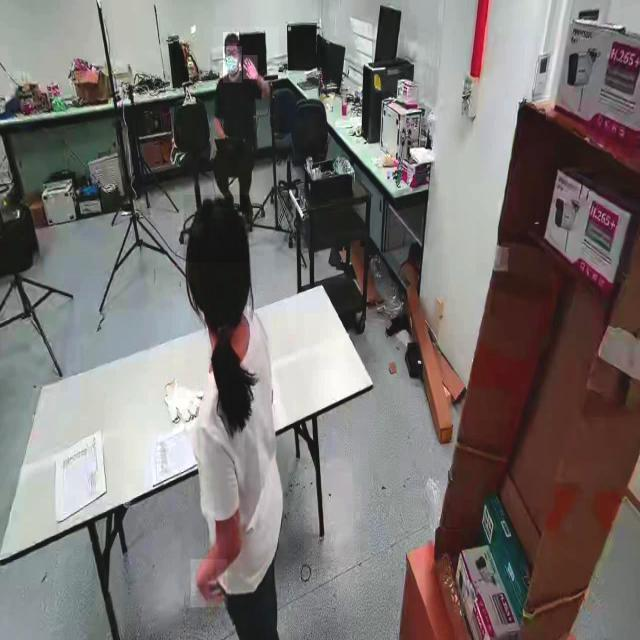face_mask: (223, 46, 243, 84)
hand_noglove: (190, 559, 228, 608), (243, 55, 258, 80)
head_nohelmet: (183, 195, 250, 263), (223, 32, 239, 45)
person: (172, 193, 296, 639), (213, 27, 279, 218)
